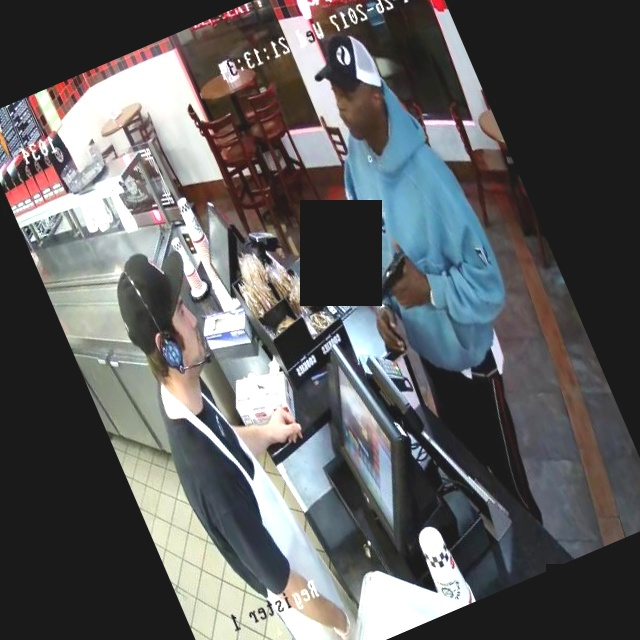gun: (342, 225, 440, 325)
